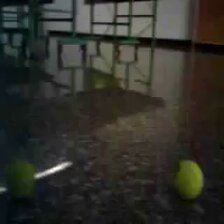tennis: (174, 159, 205, 199), (7, 159, 36, 196)
